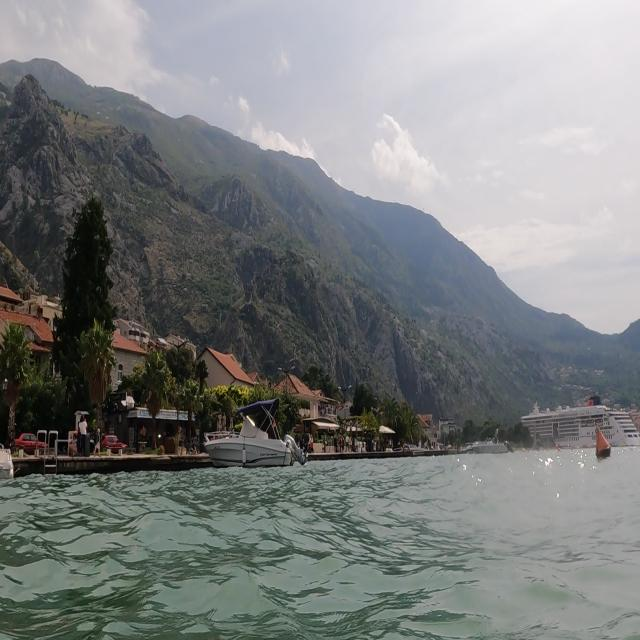boat: (202, 394, 308, 472), (516, 396, 640, 461)
buoy: (590, 427, 620, 470)
